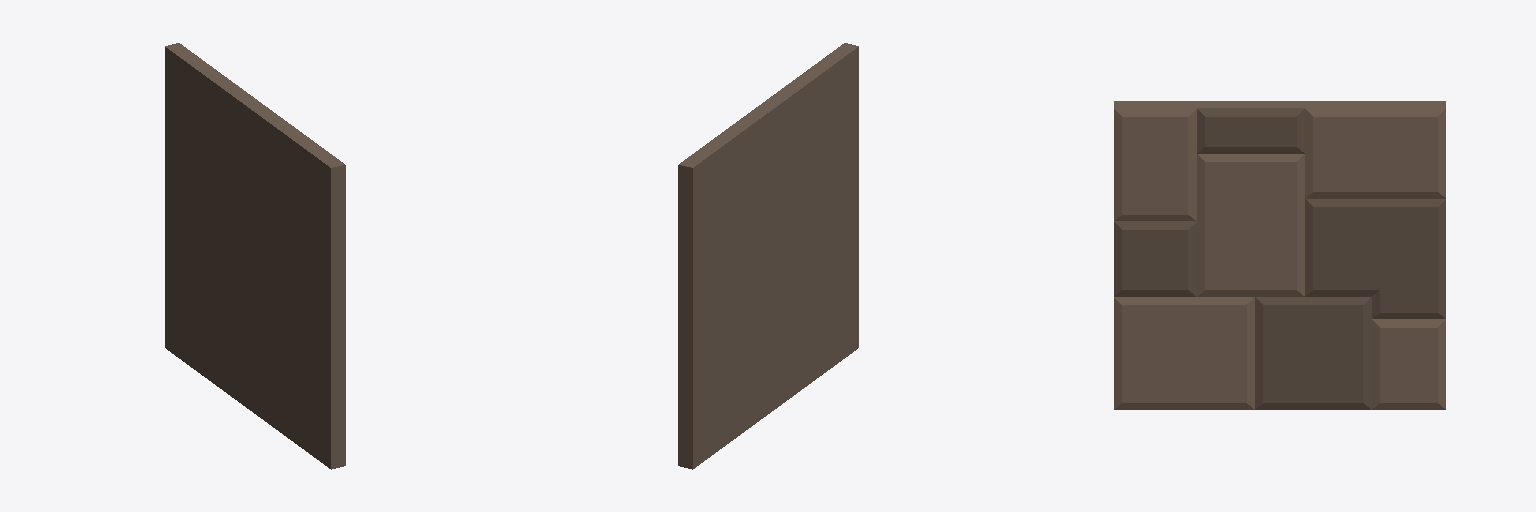
Rendered from Stone_Wall_2.obj.
3 renders of one model, left to right at view 1: azimuth 30°, elevation 25°; view 2: azimuth 150°, elevation 25°; view 3: azimuth 270°, elevation 25°, orthographic.
Parts seen in each view (by area): view 1: object1; view 2: object1; view 3: object1.
Part boxes in pixels (bbox=[...]): object1: bbox=[165, 43, 345, 469]; object1: bbox=[678, 43, 858, 469]; object1: bbox=[1114, 101, 1445, 409].
Size of the model in its own units: 0.0563 by 1 by 1.